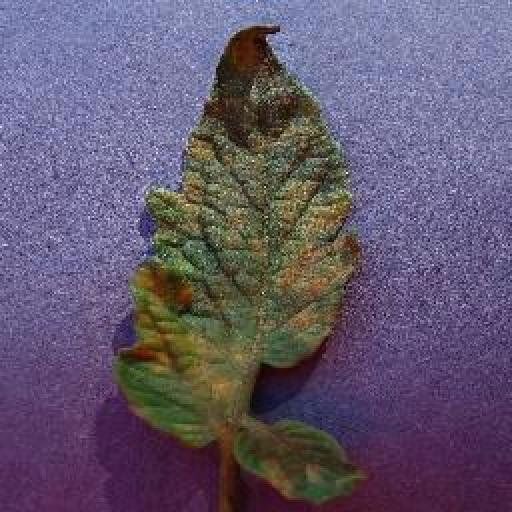disease_tomato: (119, 21, 368, 507)
